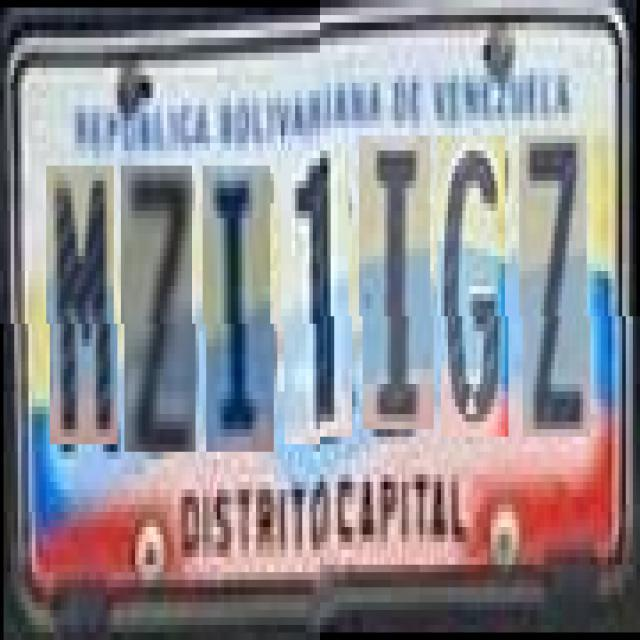1: (284, 150, 352, 444)
G: (441, 143, 508, 444)
I: (362, 143, 433, 437), (206, 166, 274, 452)
M: (49, 166, 118, 444)
Z: (124, 166, 196, 452), (522, 143, 590, 444)
